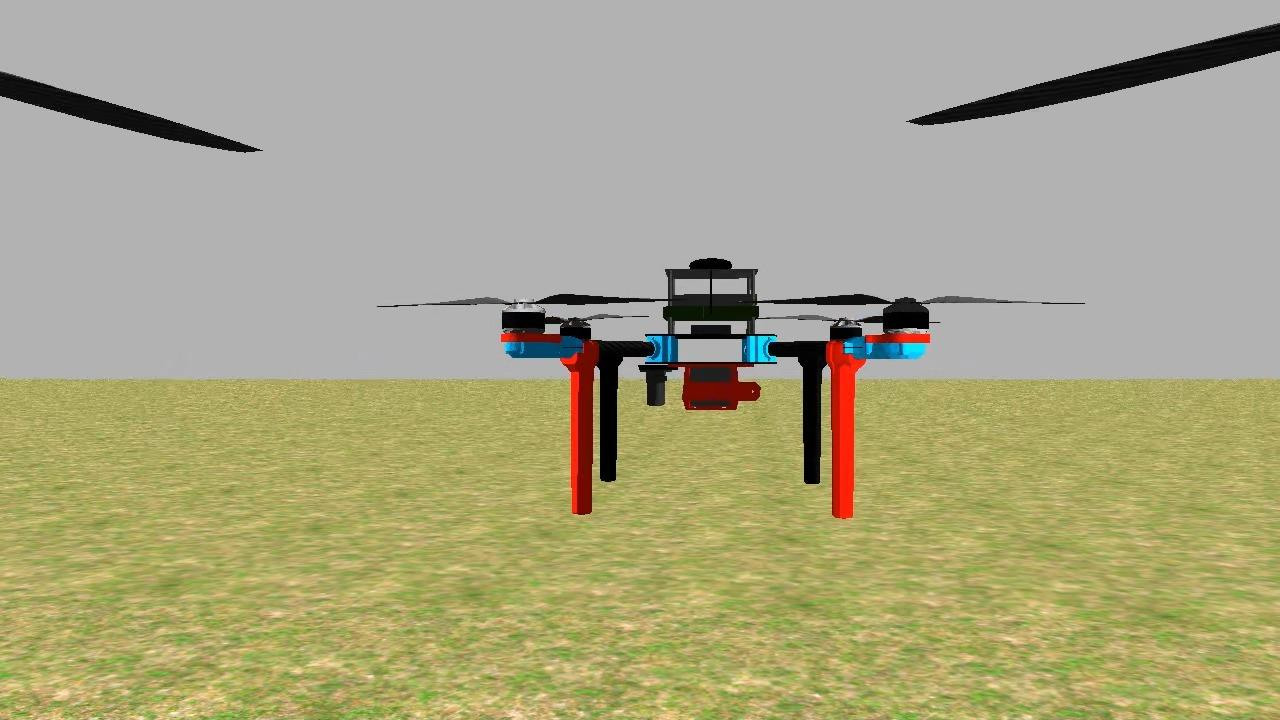UAV: (487, 248, 943, 526)
